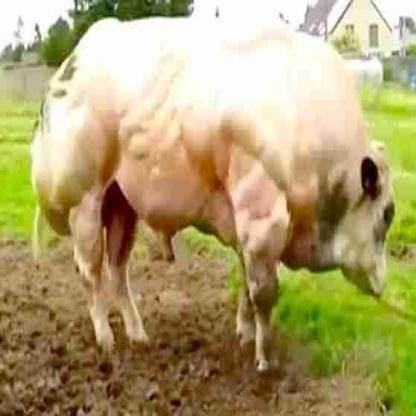cow: (34, 18, 395, 371)
